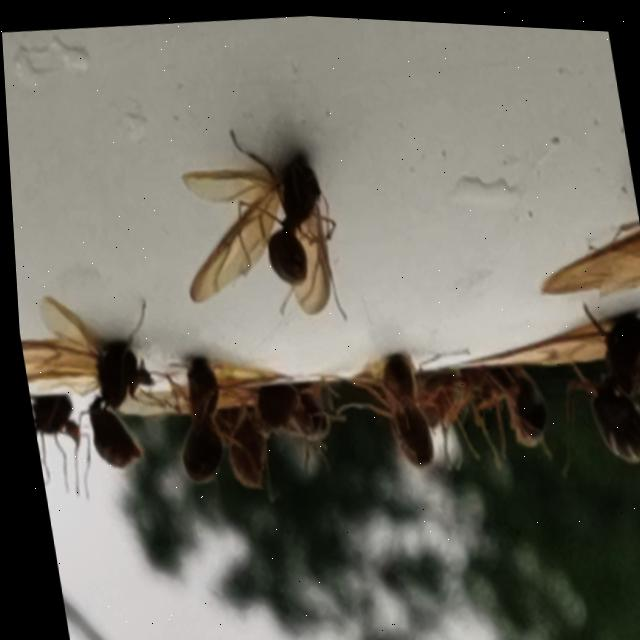Dead-Female-Alate: (435, 283, 640, 486)
Dead-Male-Alate: (160, 114, 349, 333), (114, 359, 354, 517), (13, 283, 172, 503), (118, 342, 307, 512), (321, 337, 483, 474), (419, 351, 551, 473), (397, 358, 491, 471), (24, 388, 94, 502)
